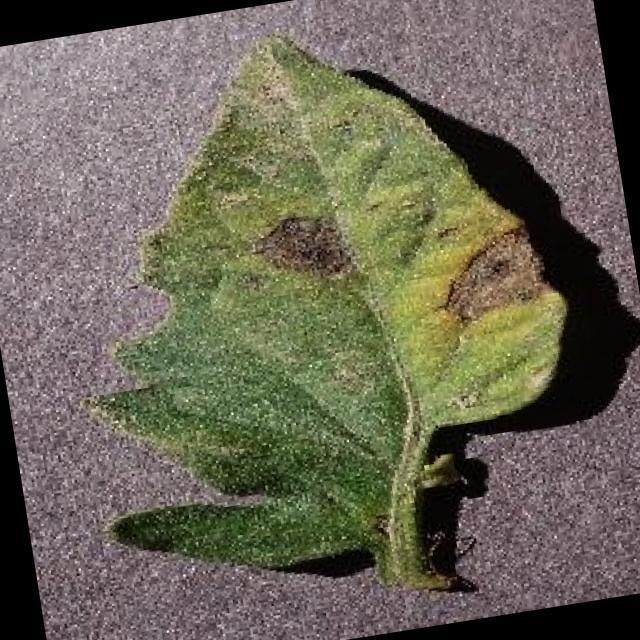Tomato Early blight leaf: (36, 0, 602, 595)
